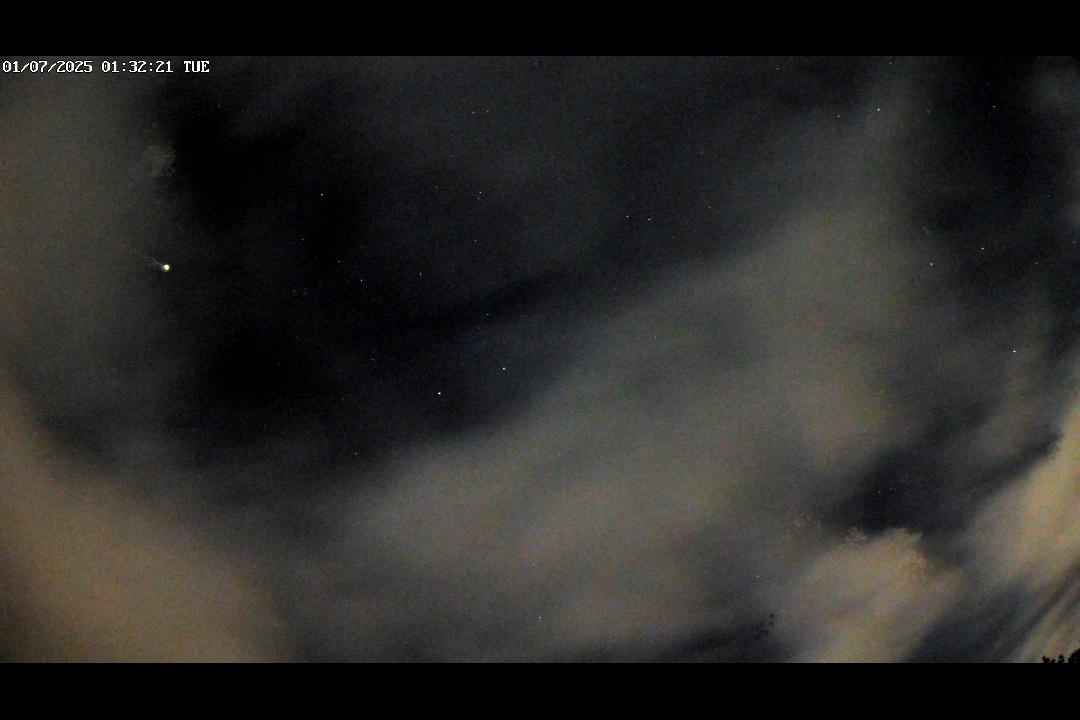Plane: (123, 246, 181, 273)
